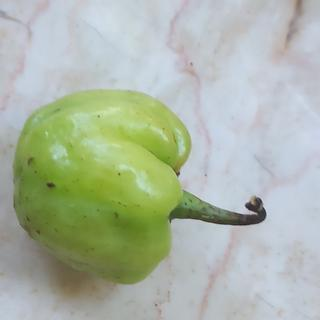Fly-bites: (19, 151, 41, 170), (108, 207, 125, 226), (43, 178, 61, 195), (93, 108, 108, 125), (21, 211, 35, 226), (31, 225, 47, 238), (110, 168, 126, 181)
